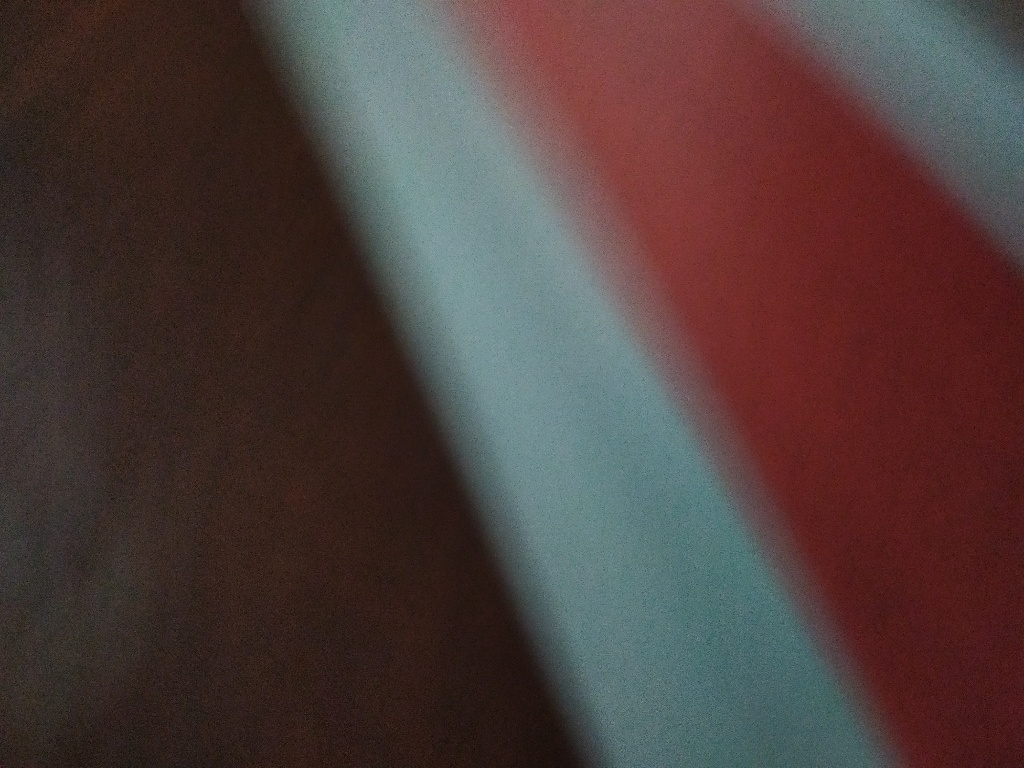reta: (248, 8, 1022, 768)
